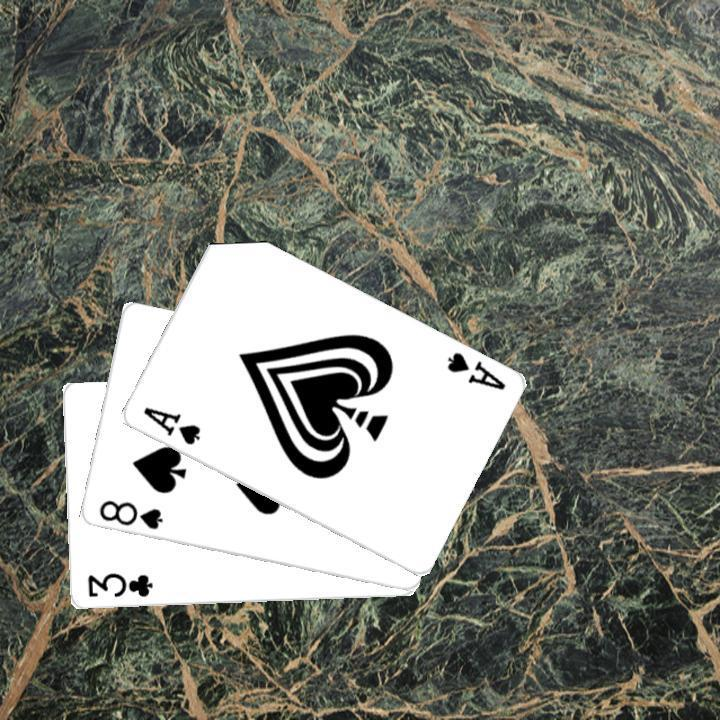3: (83, 569, 154, 600)
8: (94, 496, 165, 532)
A: (441, 348, 508, 393), (138, 403, 202, 447)
